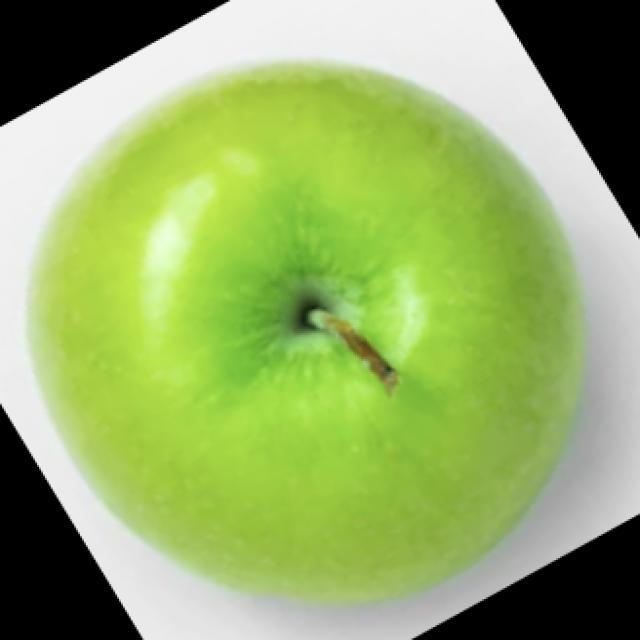Fresh Apple: (27, 55, 570, 588)
